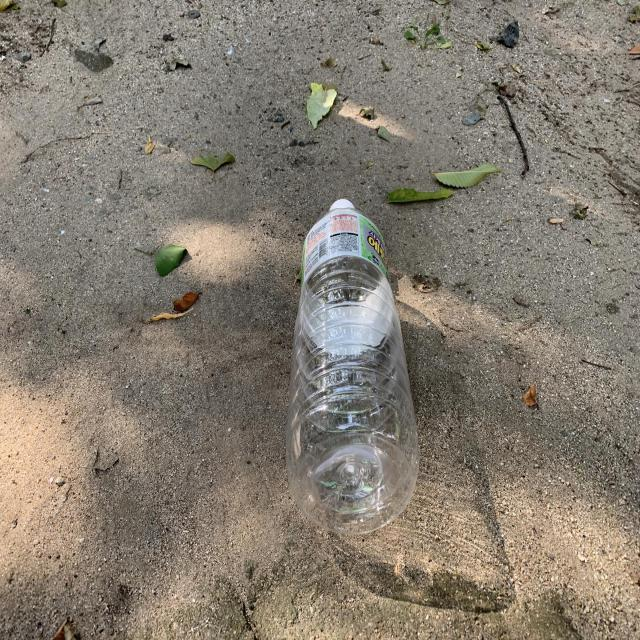plastic: (286, 199, 419, 535)
